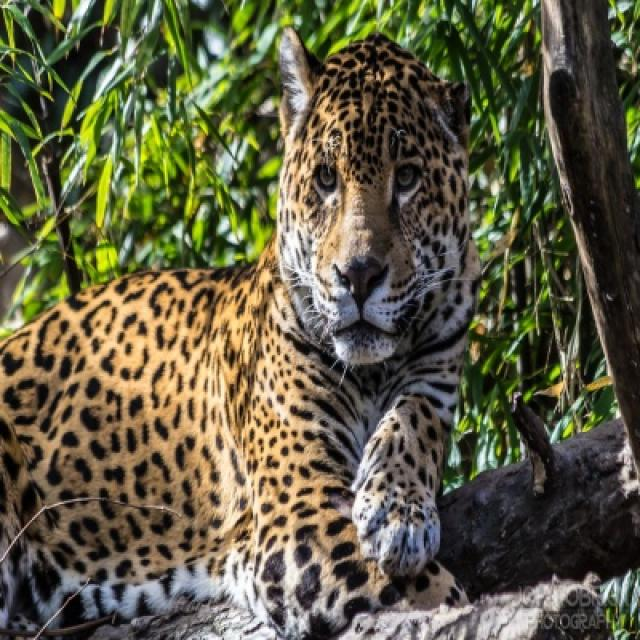Jaguar: (0, 27, 480, 638)
